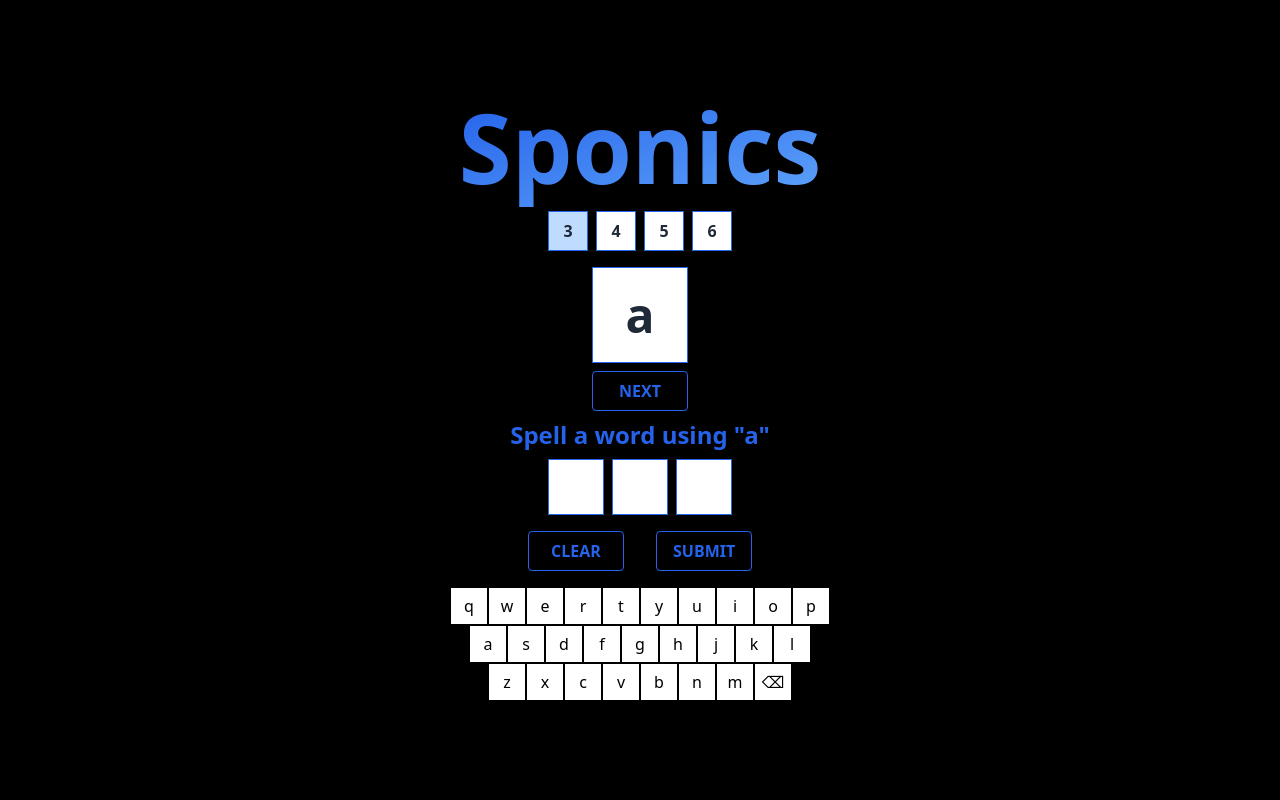
Test: User types guess › Results shows 'Correct, well done' message and changes component to green when word is spelt correctly, is correct length and contains sound
Check: the text with test id "sound" reads "a", box [592,267,688,363]
Click the button with test id "wordLength4".
click(616, 231)  # box [596,211,636,251]
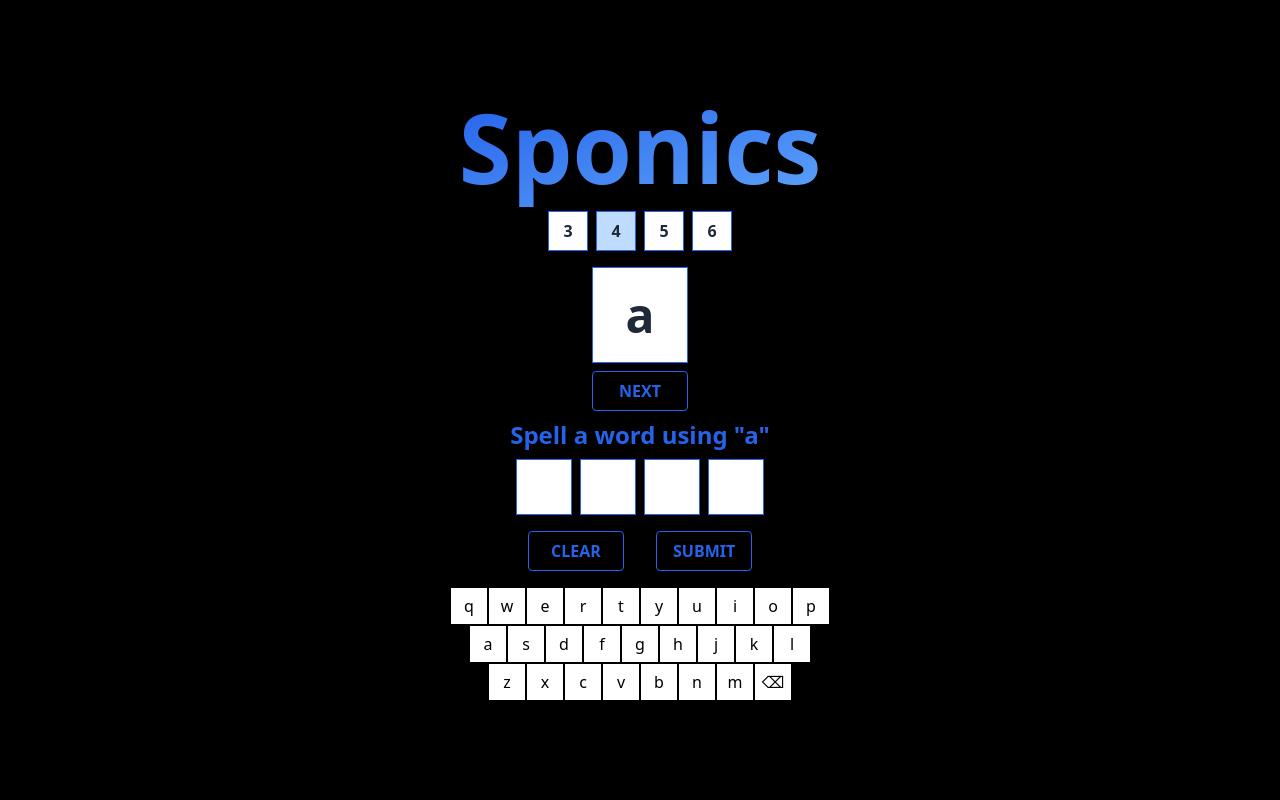
Press t in the element with test id "mainContainer"
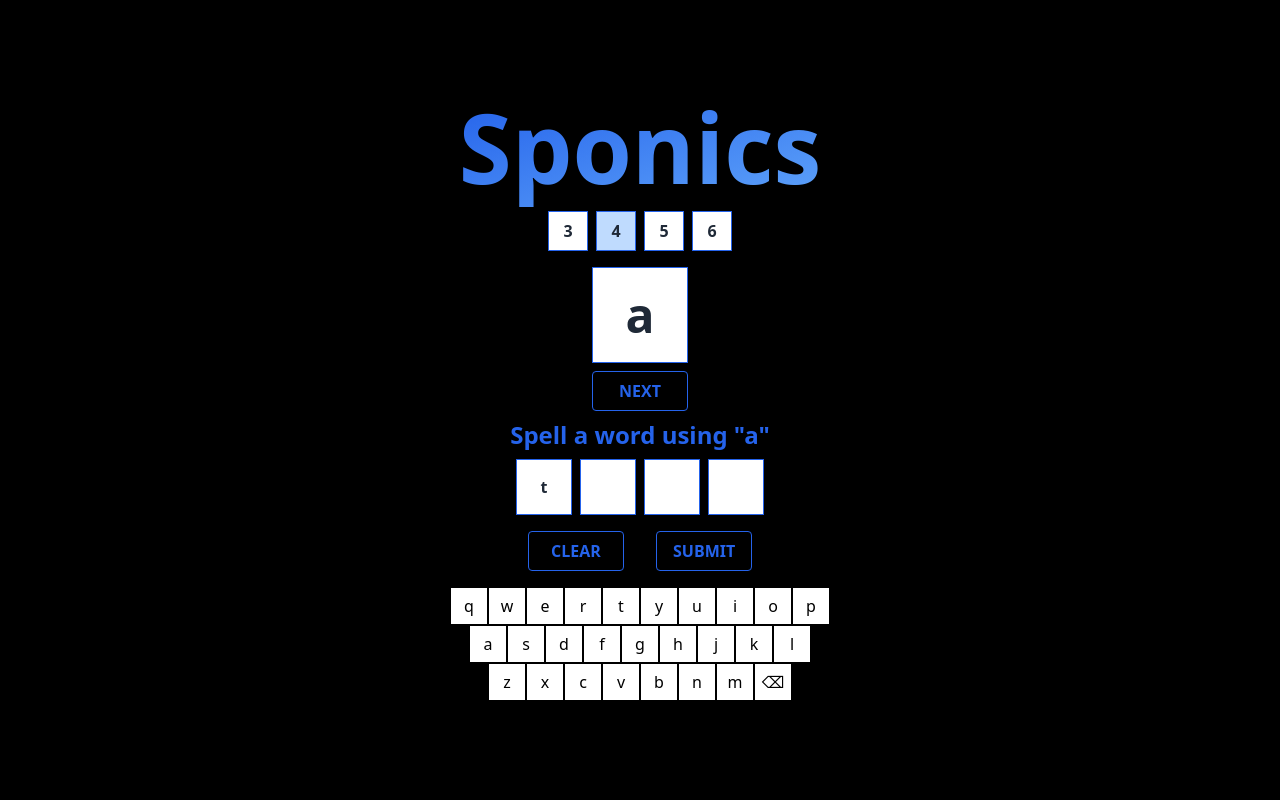
Press a in the element with test id "mainContainer"
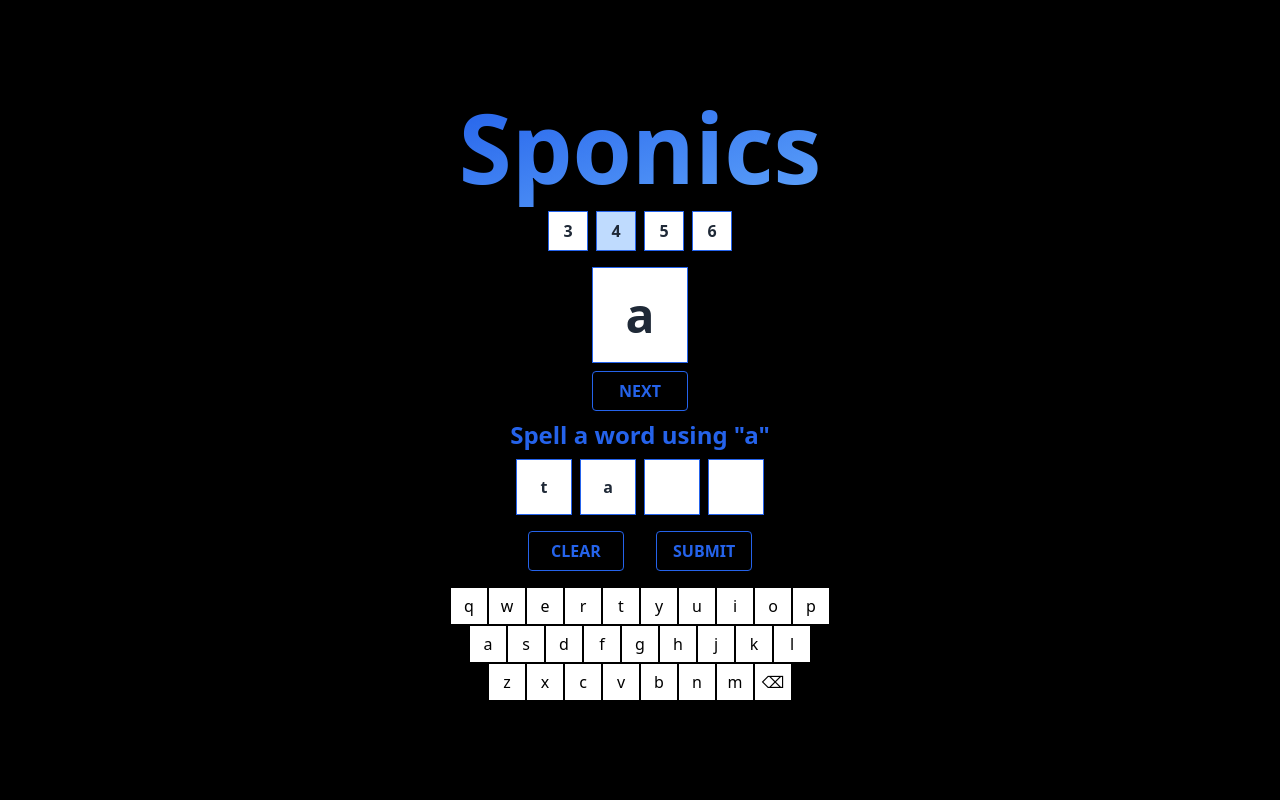
Press n in the element with test id "mainContainer"
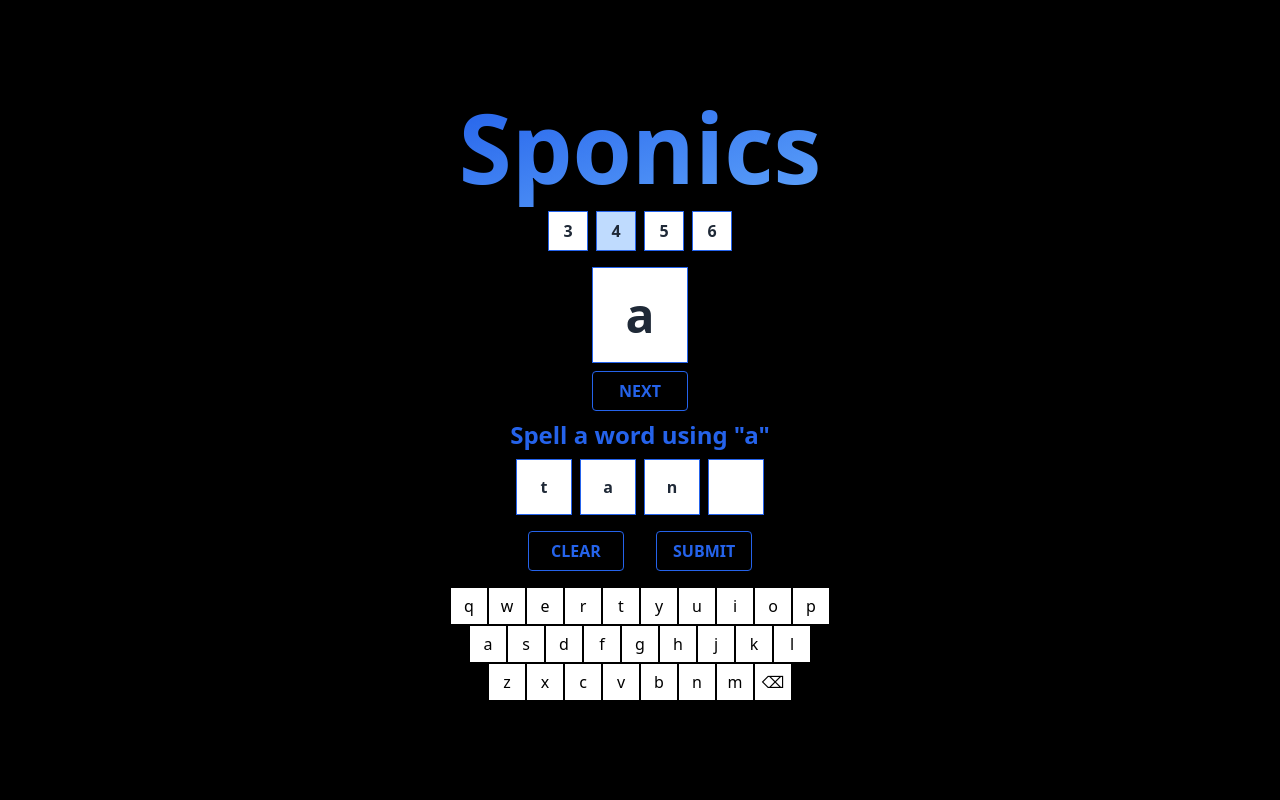
Press k in the element with test id "mainContainer"
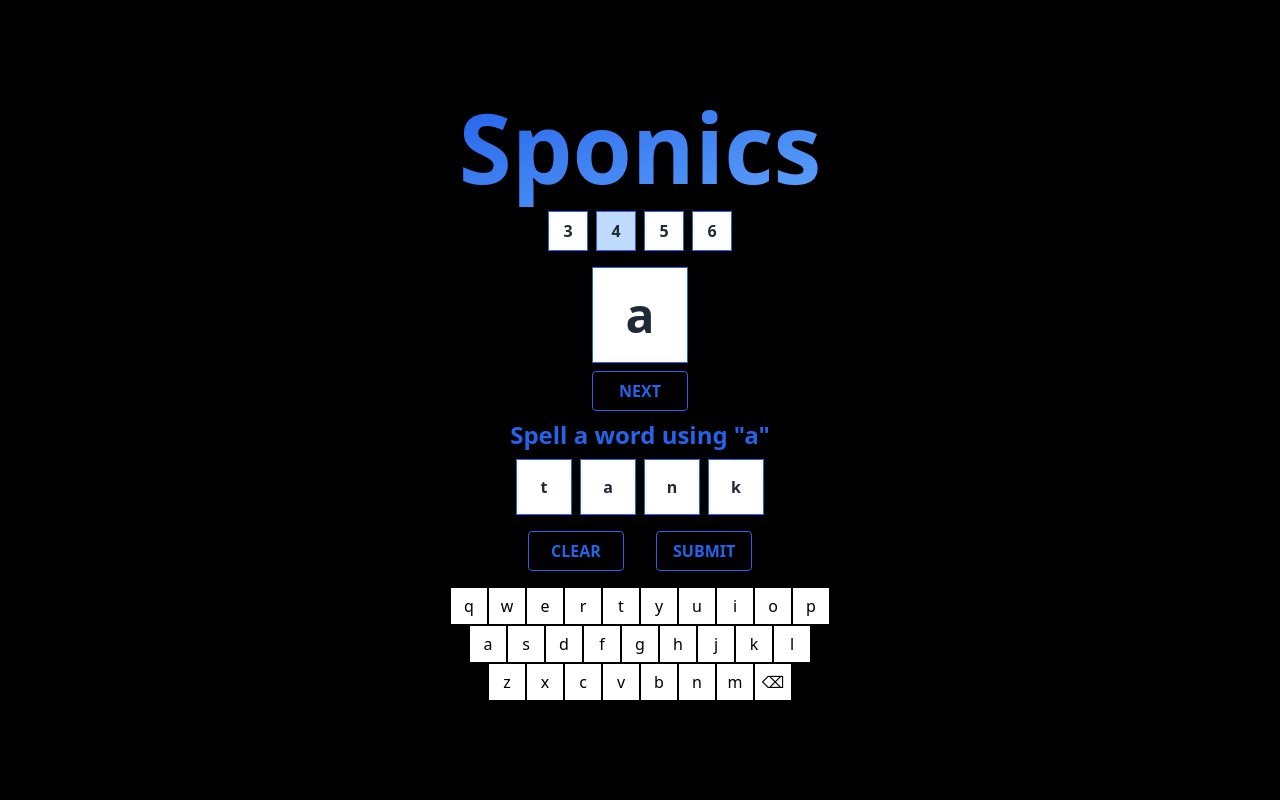
Check: the text with test id "guessLetter1" reads "t", box [516,459,572,515]
Check: the text with test id "guessLetter2" reads "a", box [580,459,636,515]
Check: the text with test id "guessLetter3" reads "n", box [644,459,700,515]
Click the button with test id "submitButton".
click(704, 551)  # box [656,531,752,571]
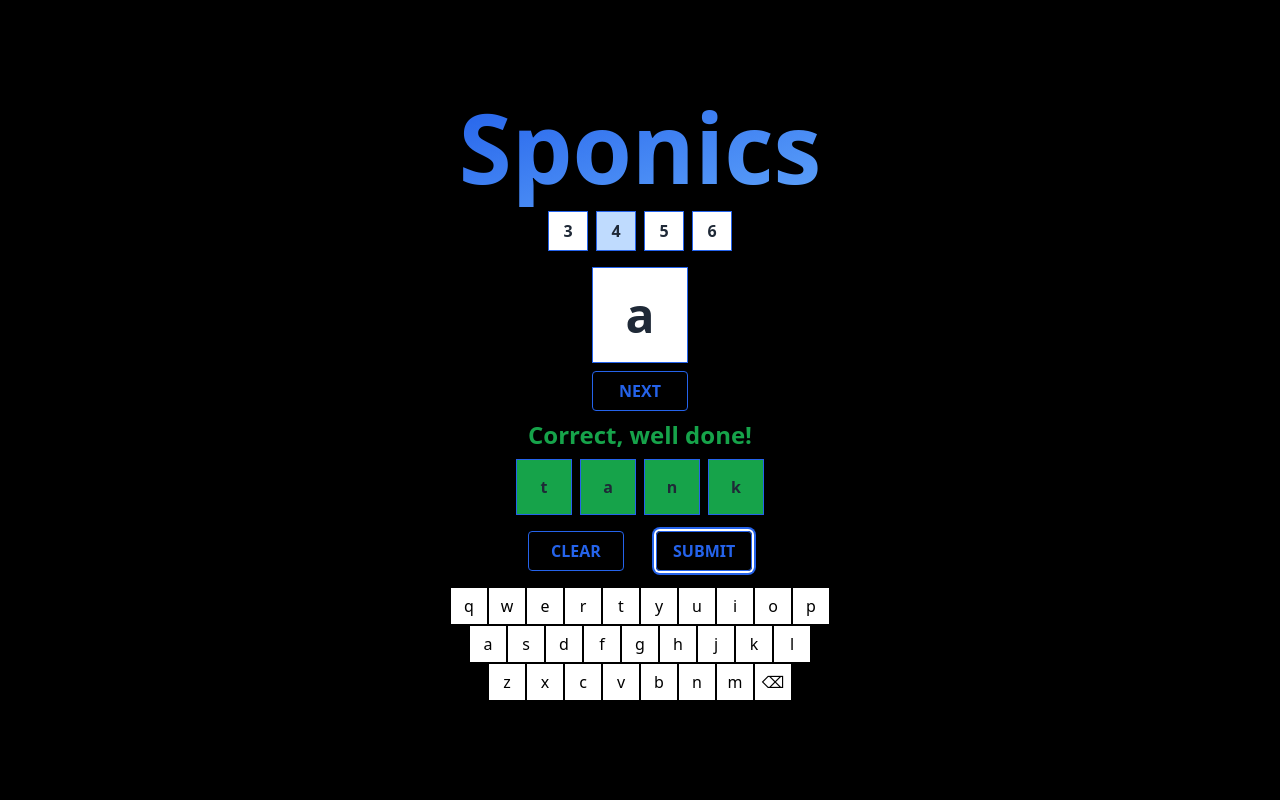
Check: the heading with test id "resultMessage" reads "Correct, well done!", box [528,419,752,451]
